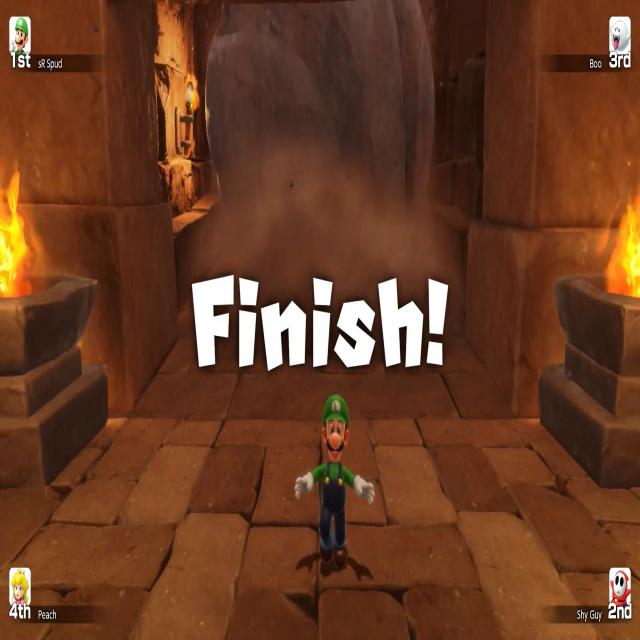Luigi: (295, 396, 374, 577)
rolling stone: (206, 0, 437, 284)
